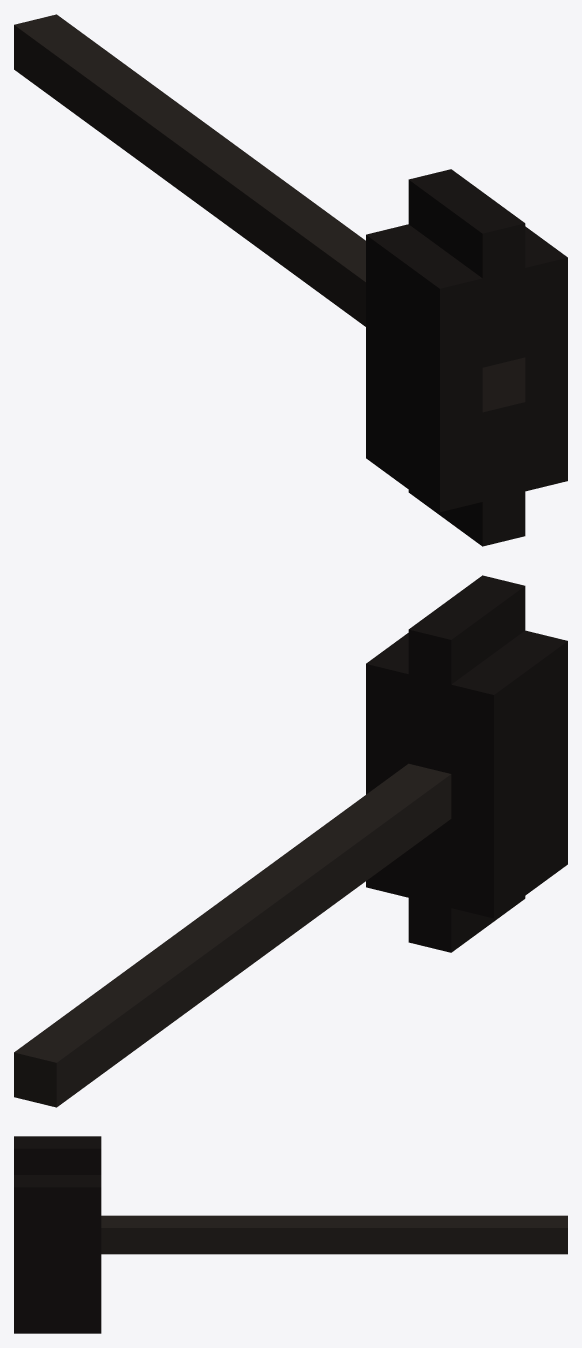
The model's file is Hammer_AnnieWilkes.fbx.
3 views of the same model, one above another, from view 1: azimuth 30°, elevation 25°; view 2: azimuth 150°, elevation 25°; view 3: azimuth 270°, elevation 25° (orthographic). The views are drawn at different scales.
Visible parts, largest first — view 1: Hammer_AnnieWilkes; view 2: Hammer_AnnieWilkes; view 3: Hammer_AnnieWilkes.
Boxes of the visible parts, x1,y1,x2,y2 form: Hammer_AnnieWilkes: (14, 14, 567, 546); Hammer_AnnieWilkes: (14, 575, 567, 1107); Hammer_AnnieWilkes: (14, 1136, 567, 1333).
Size of the model in its own units: 15 by 35 by 95.
1 material, 1 textured.
